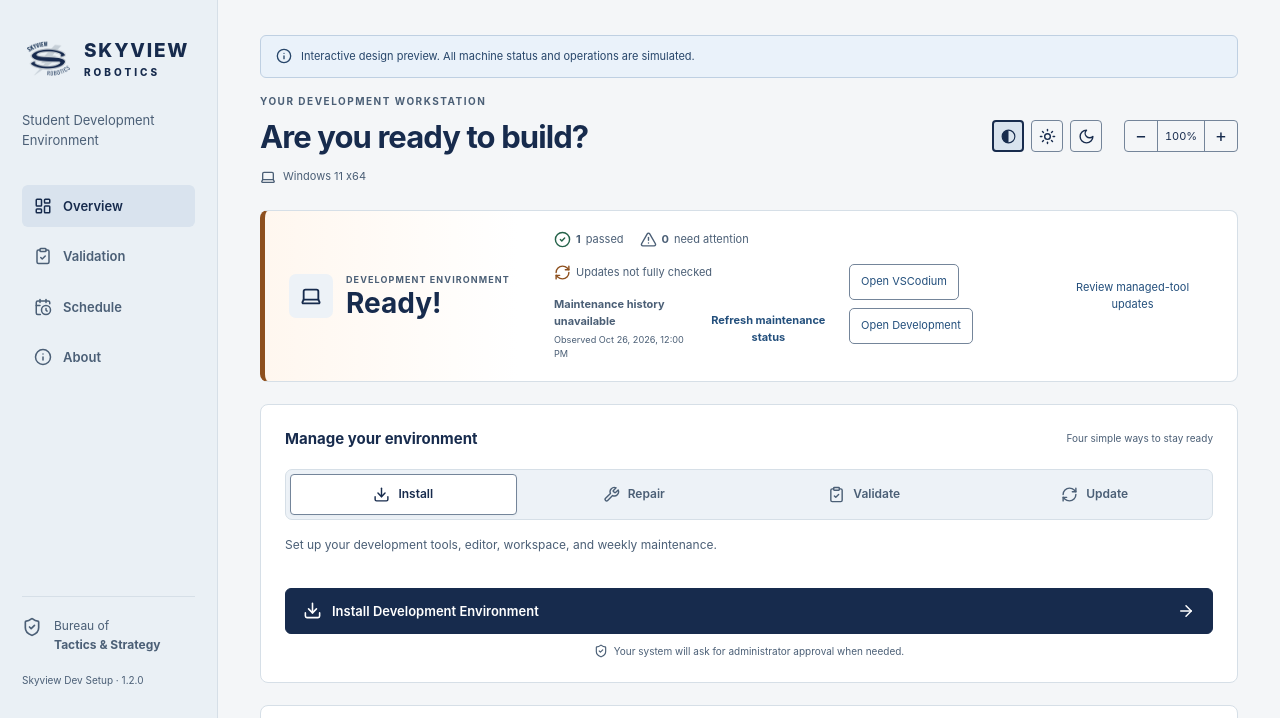
Test: offers a retry and focuses the result after a child failure
Expected: the heading "Ready!" is shown, [346,286,442,320]
Click the button "Install Development Environment" at (435, 611), box [285,588,1213,634]
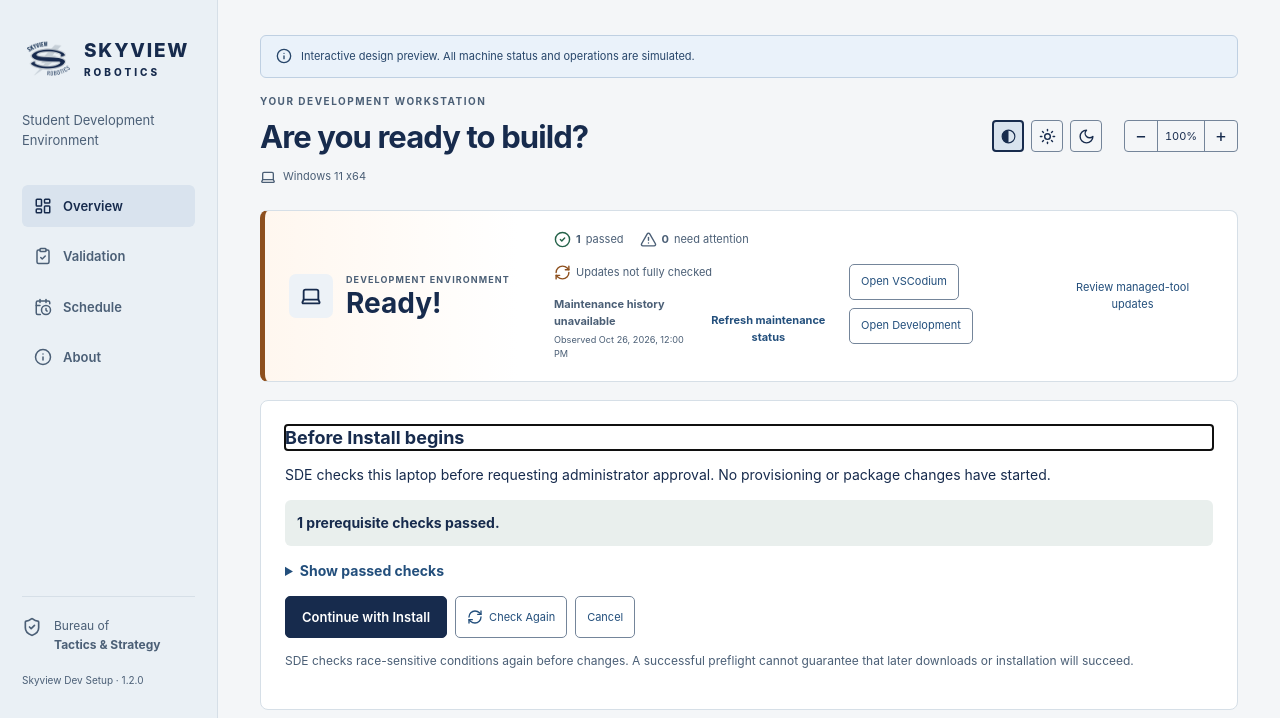
Now the heading "Before Install begins" is shown, box [285,427,464,448]
Now the button "Continue with Install" is enabled
Click the button "Continue with Install" at (366, 617), box [285,596,447,638]
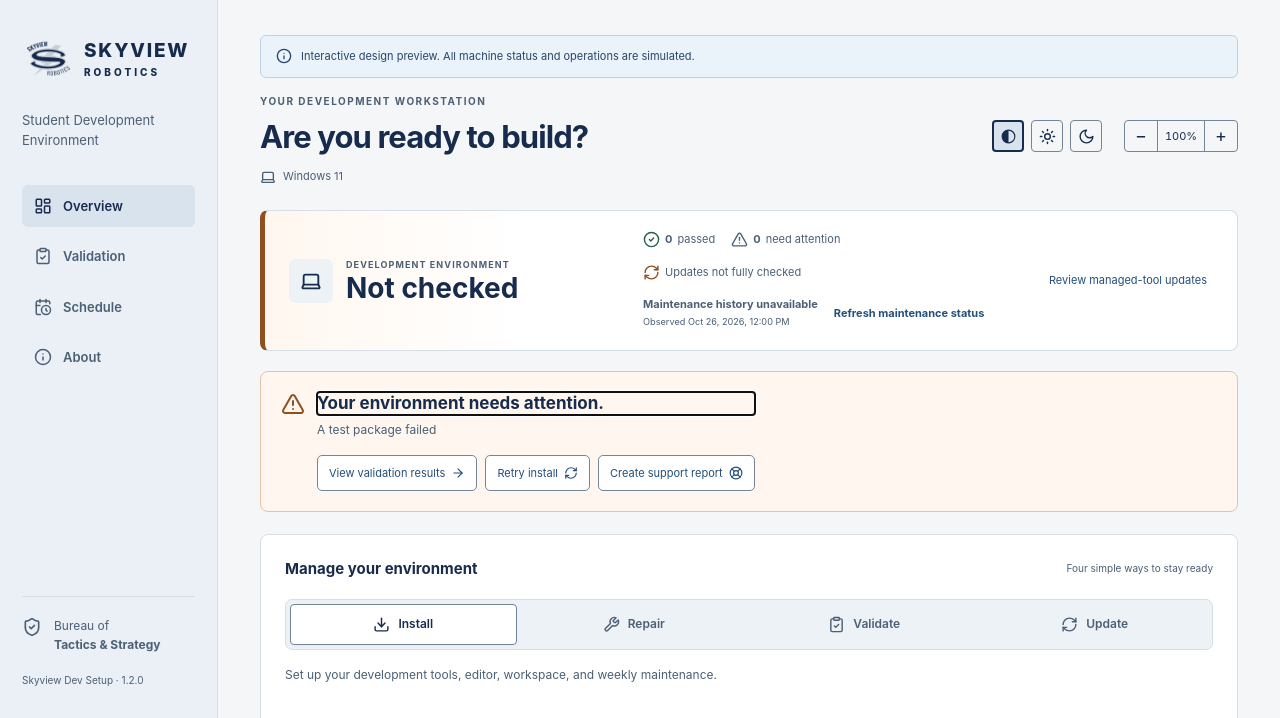
Now the text "A test package failed" is shown, box [317,422,436,438]
Now the button "Retry install" is shown, box [485,455,590,491]
Now the heading "Your environment needs attention." is shown, box [317,393,604,413]
